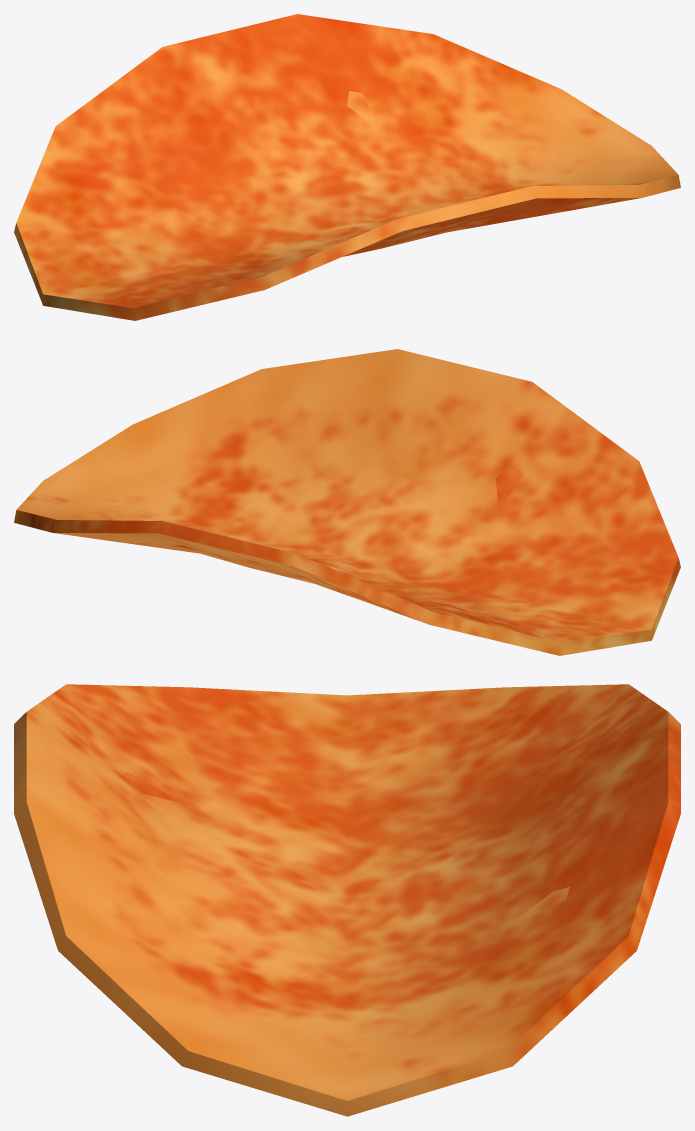
Rendered from Chip_02.fbx.
3 views of the same model, one above another, from view 1: azimuth 30°, elevation 25°; view 2: azimuth 150°, elevation 25°; view 3: azimuth 270°, elevation 25° (orthographic). The views are drawn at different scales.
Parts seen in each view (by area): view 1: Chip_02; view 2: Chip_02; view 3: Chip_02.
Part boxes in pixels (x1,y1,x2,y2): Chip_02: (14,14,680,320); Chip_02: (14,349,680,655); Chip_02: (14,684,680,1116).
Bounding box in the file's own units: 43.52 × 8.39 × 30.24.
